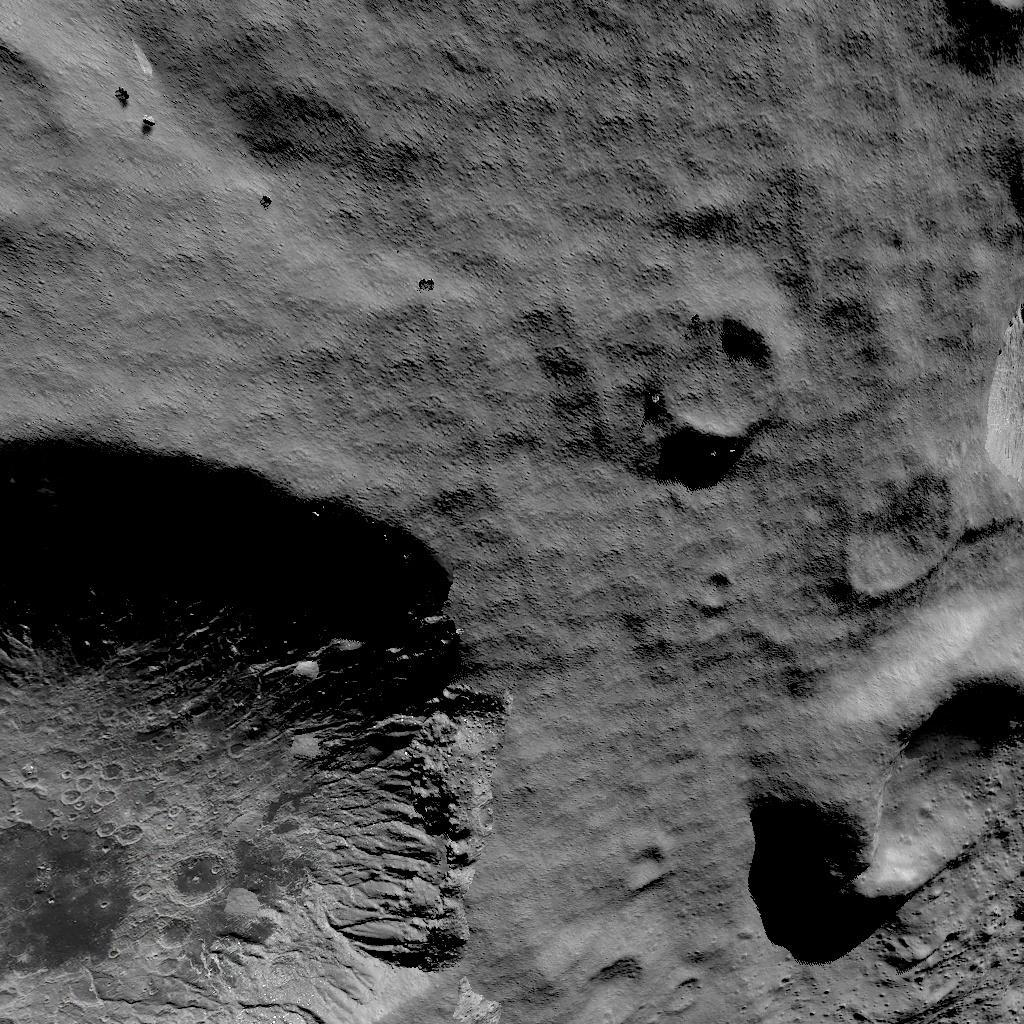Crater: (0, 430, 485, 1024), (763, 628, 1024, 972), (0, 30, 95, 264), (646, 316, 784, 466), (971, 149, 1024, 502), (821, 470, 959, 604), (907, 0, 1024, 68)
Plan surface: (621, 3, 890, 308), (177, 4, 607, 188), (115, 238, 402, 417)
